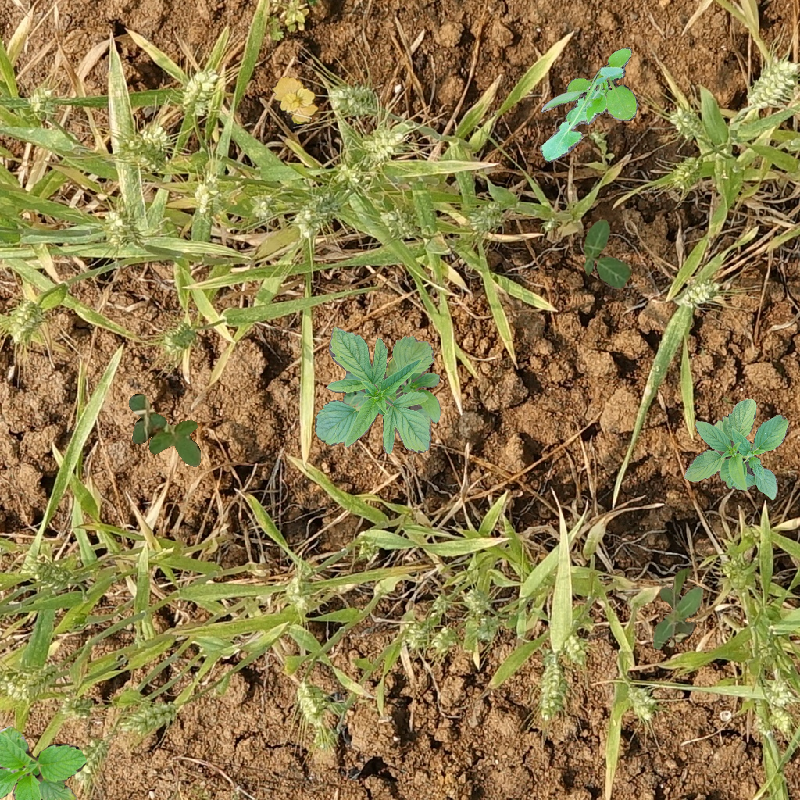spikelet: (745, 57, 799, 110), (1, 659, 59, 700), (536, 649, 566, 721), (118, 699, 177, 735), (293, 188, 335, 238), (130, 122, 171, 171), (180, 66, 219, 115), (5, 296, 45, 343), (327, 82, 379, 117), (72, 737, 109, 786), (26, 554, 73, 591), (359, 126, 405, 161), (294, 678, 328, 725), (718, 553, 757, 593), (378, 205, 421, 240), (191, 172, 225, 216), (101, 208, 138, 247), (677, 276, 721, 308), (159, 318, 198, 354), (466, 198, 506, 233), (285, 571, 319, 611), (667, 105, 705, 140), (624, 682, 658, 721), (25, 84, 60, 120), (669, 155, 702, 191), (60, 690, 94, 722), (760, 677, 794, 708), (248, 189, 278, 224), (562, 632, 590, 667), (332, 161, 365, 190), (401, 617, 429, 649), (461, 586, 492, 614), (473, 613, 501, 643), (430, 625, 459, 653), (767, 705, 795, 733), (355, 534, 380, 563)
weed: (311, 324, 450, 456), (539, 50, 646, 168), (677, 400, 797, 502), (1, 726, 88, 800), (650, 564, 708, 657), (129, 394, 201, 467), (578, 216, 641, 291), (272, 76, 320, 124)
